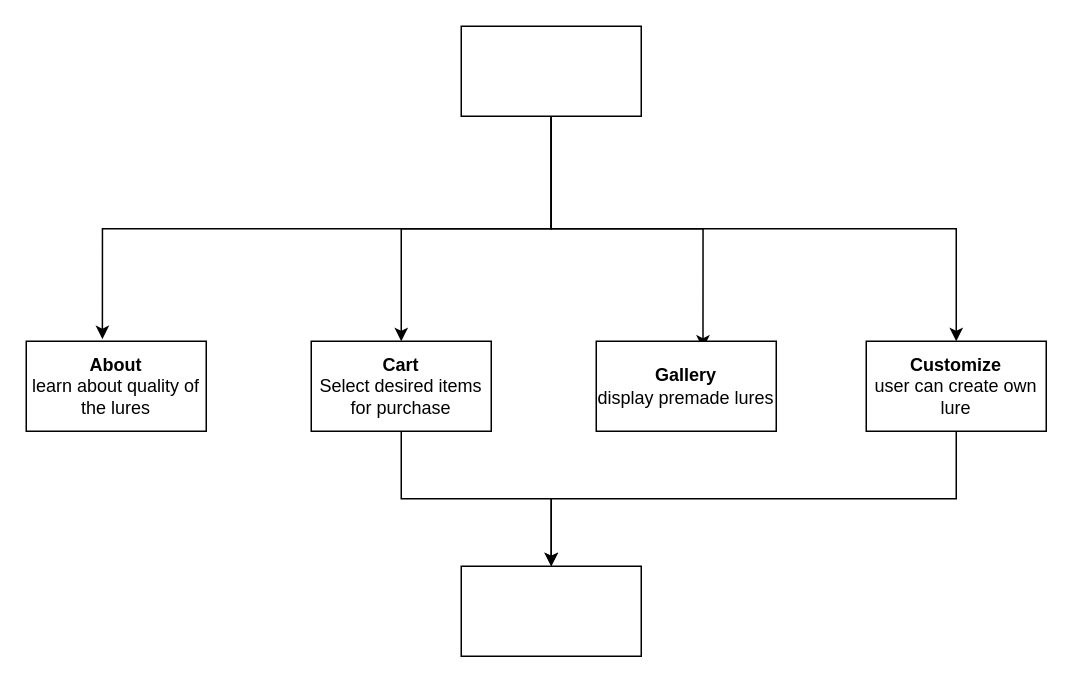
The diagram is 1073 pixels wide and 683 high, and some of its shapes have lost their labels. The box of each missing label's shape, as (x1, y1, x2, y2) in pixels:
Index users are here first: (460, 25, 641, 116)
Purchase make a purchase: (460, 565, 641, 656)
